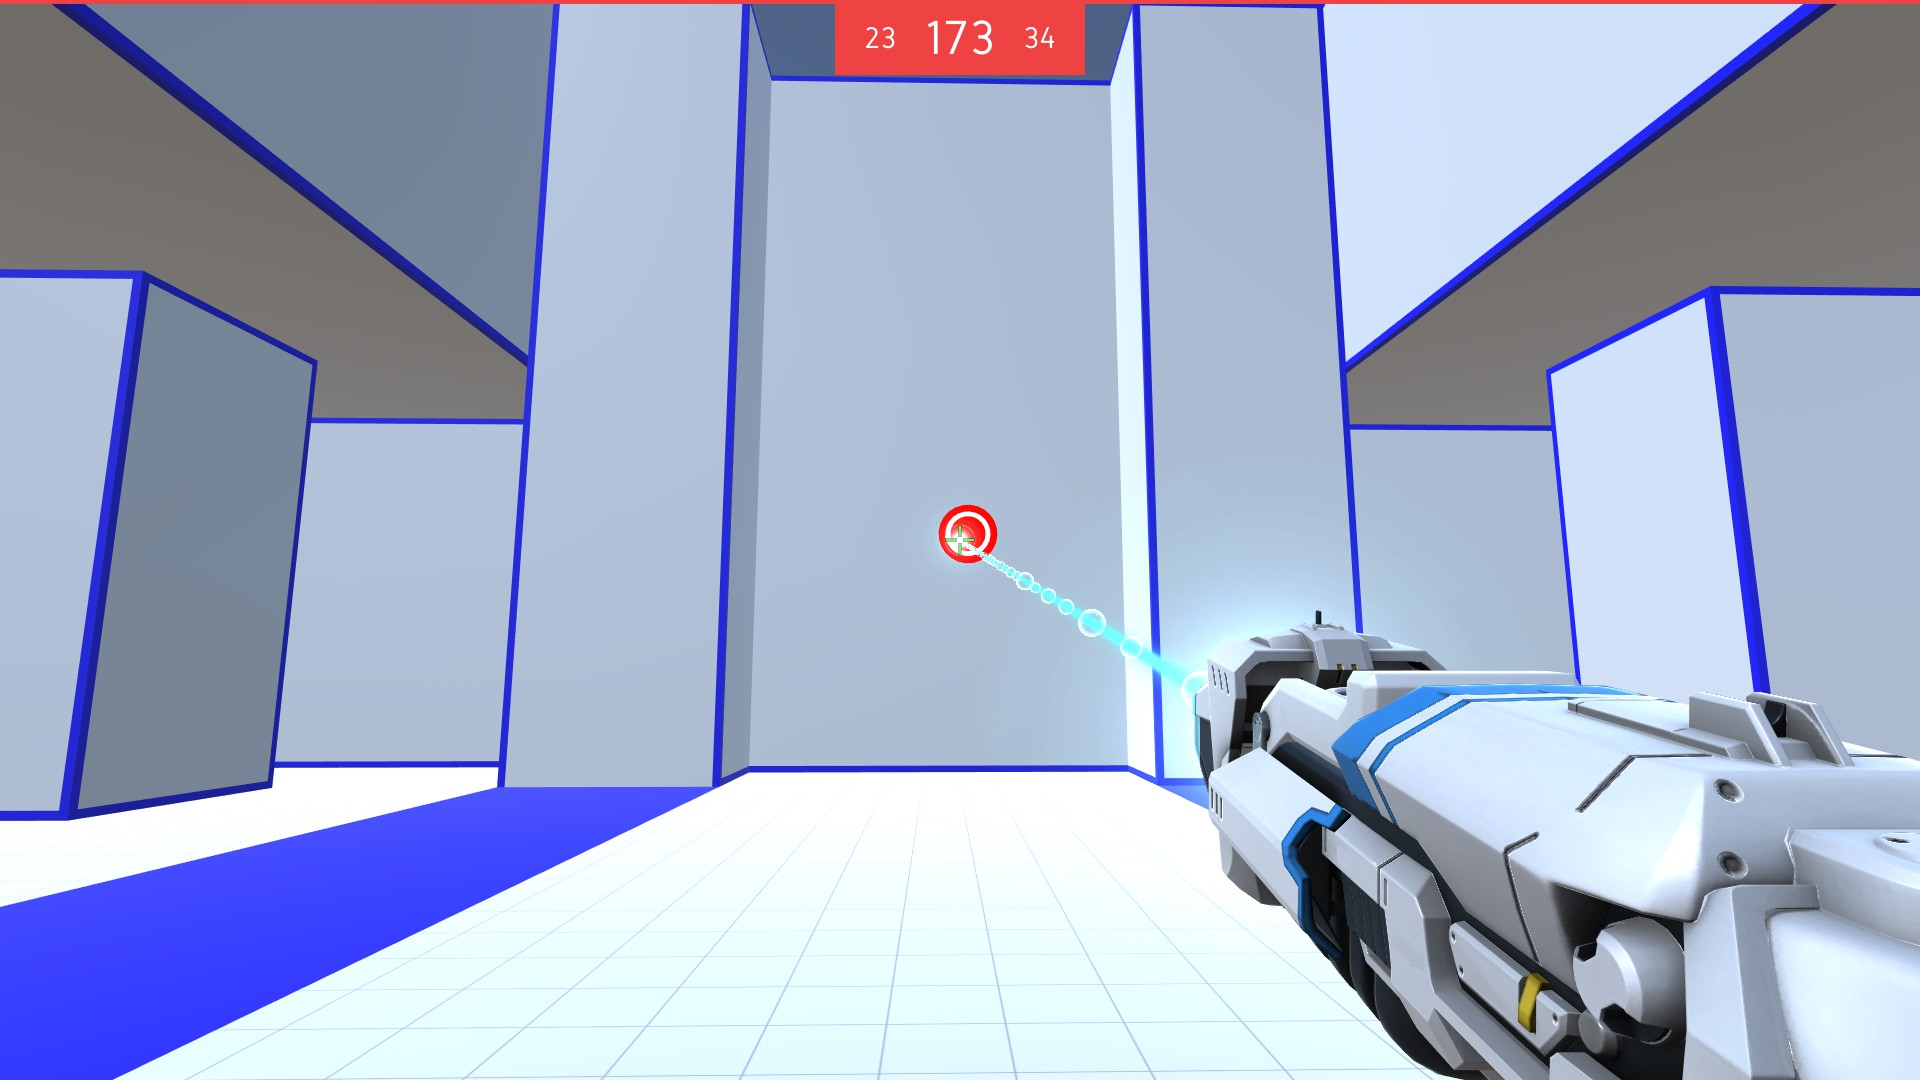target: (934, 502, 1000, 566)
